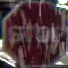Stop: (2, 0, 67, 67)
